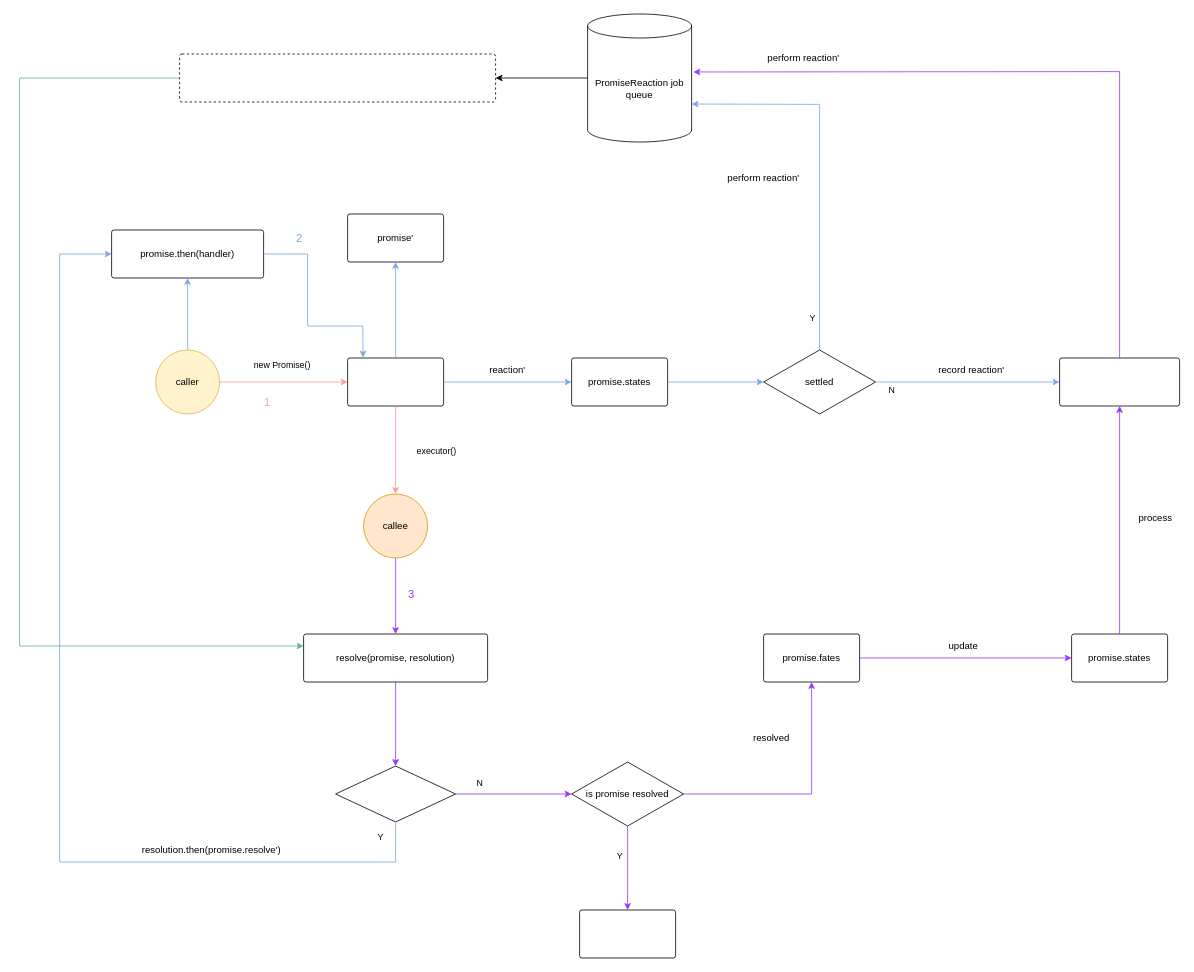
Some shapes in this 1194 by 972 pixel diagram are drawn without their labels. Each missing label, with the centre of its shape:
"is resolution thenable" goes at pixel 395 793.
"NOP" goes at pixel 627 933.
"promise" goes at pixel 395 381.
"promise'.resolve(resolution' = handler(resolution))" goes at pixel 337 77.
"promise.reactions" goes at pixel 1119 381.
